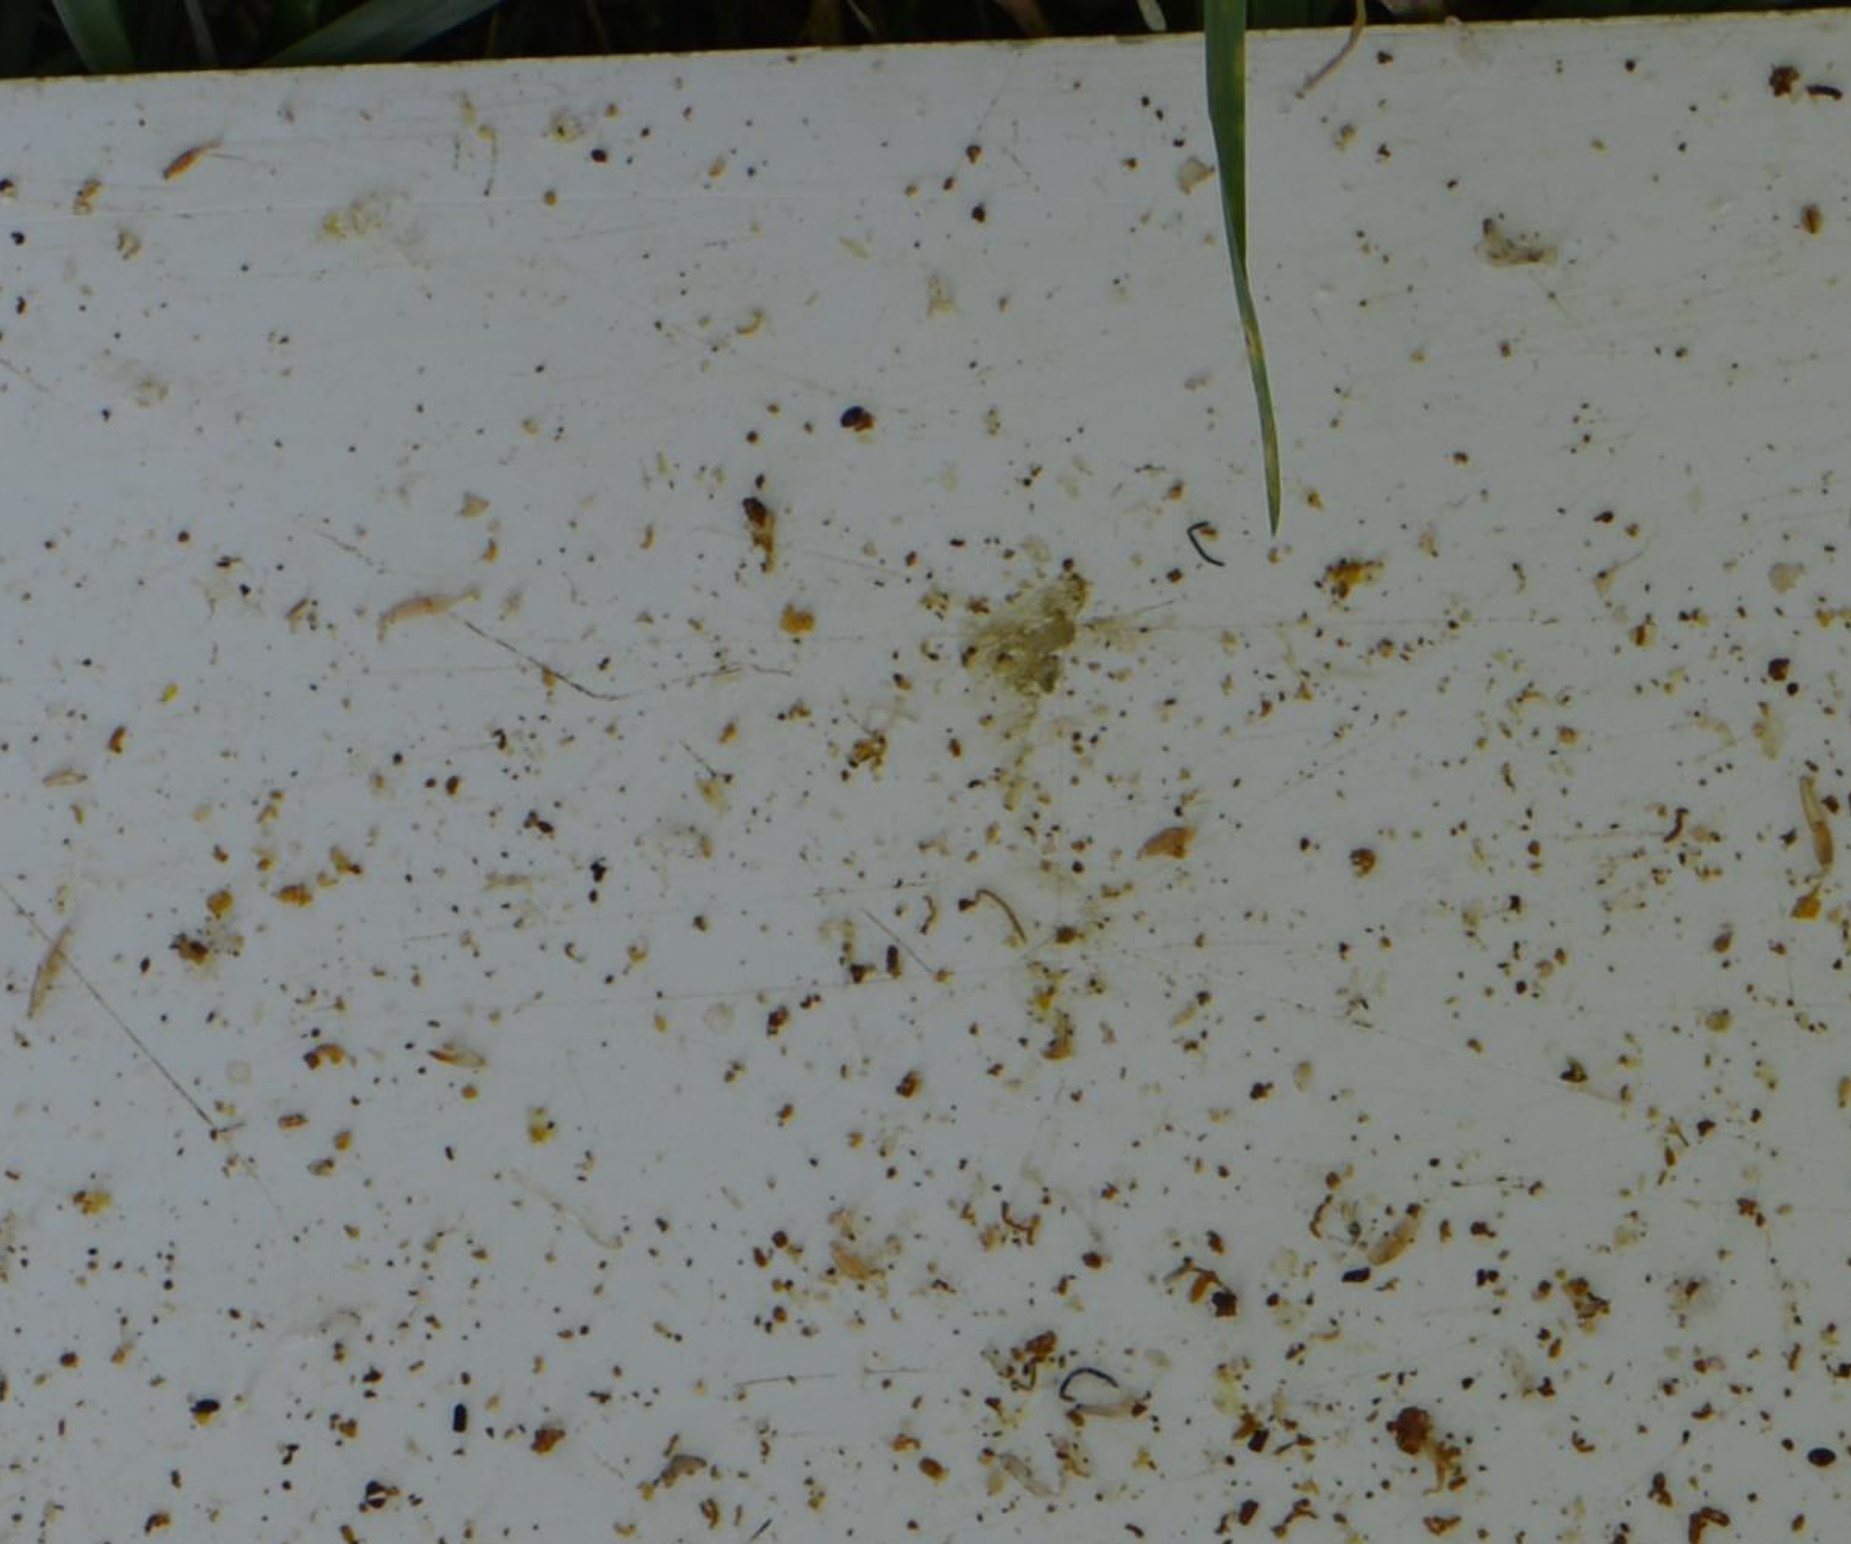Varroa: (842, 403, 875, 434), (1806, 1443, 1836, 1473)
